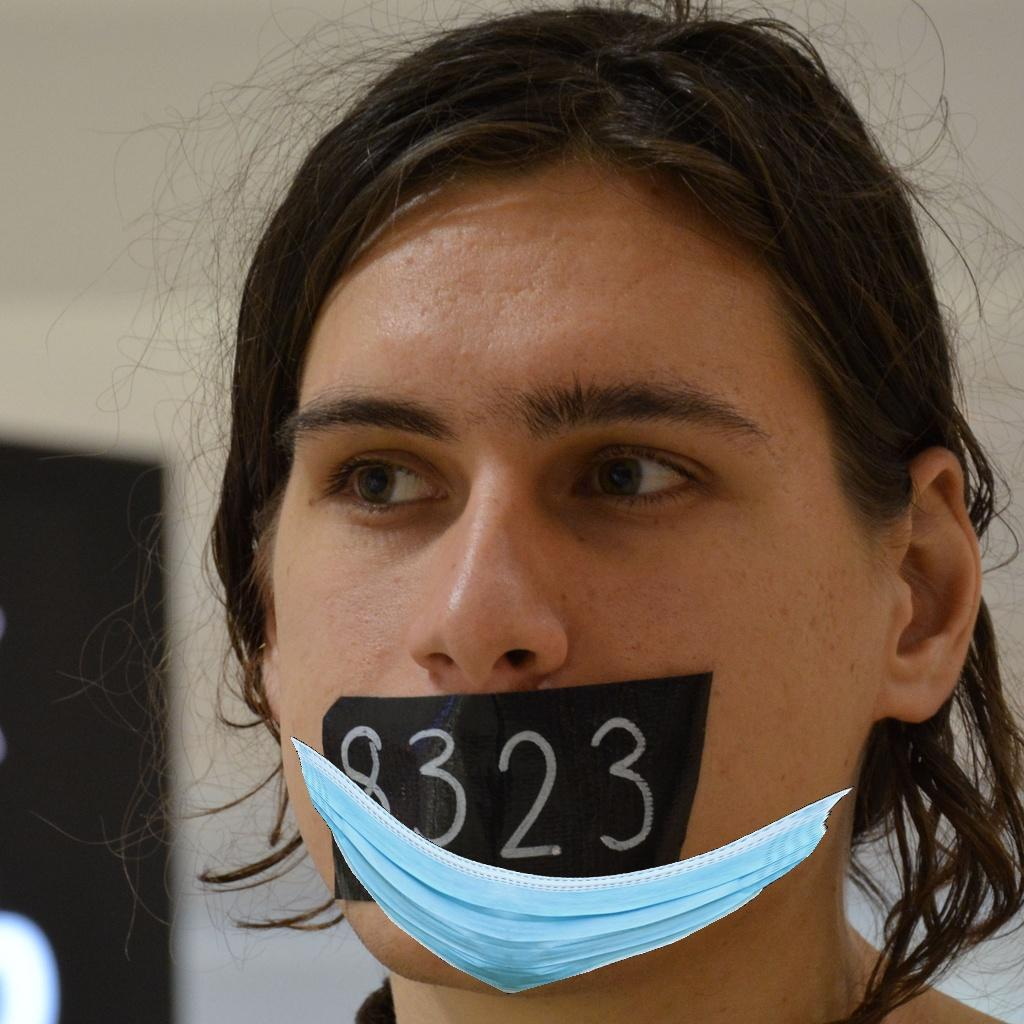Máscara Incorreta: (235, 290, 895, 969)
